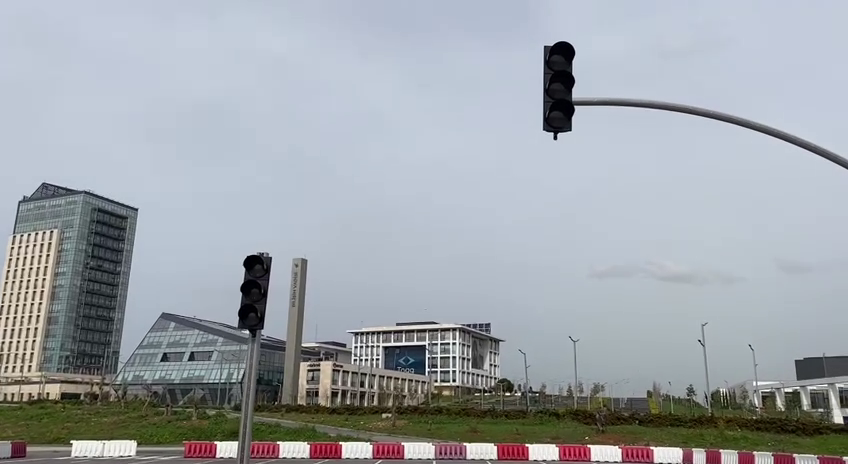trafficLight: (535, 36, 580, 142), (234, 249, 275, 333)
